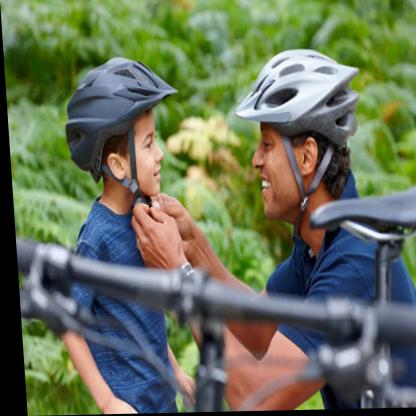With Helmet: (224, 38, 369, 223), (51, 52, 184, 200)
